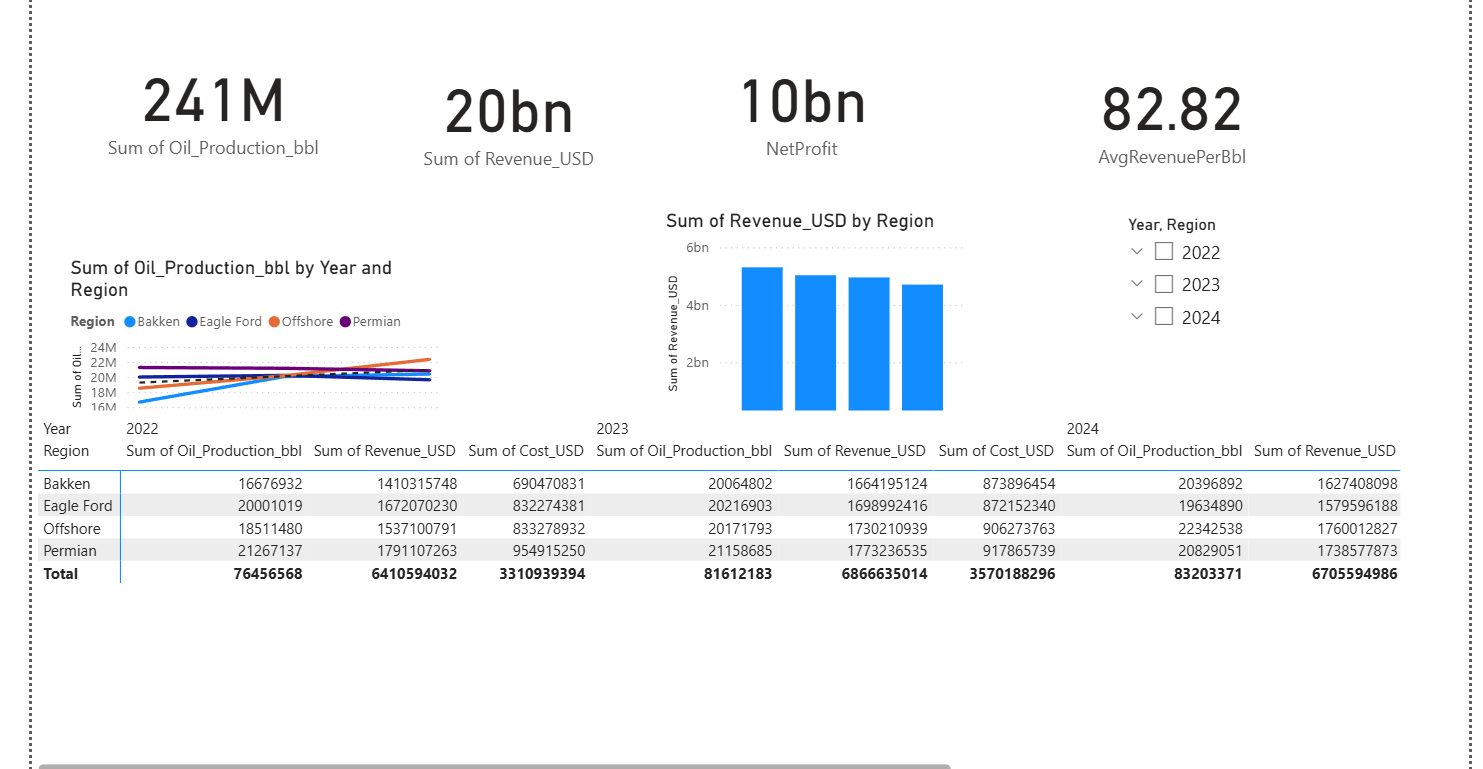

The page's visual inventory and layout, read from the dashboard file:
{"tool":"powerbi","page":{"name":"Page 1","canvas":[1280,720],"ordinal":0},"visuals":[{"type":"card","fields":{"Values":["Sum(OilProduction.Oil_Production_bbl)"]},"box":[20.8,0,279.7,215.4],"z":4},{"type":"card","fields":{"Values":["Sum(OilProduction.Revenue_USD)"]},"box":[300.5,18.9,247.6,196.5],"z":5},{"type":"card","fields":{"Values":["OilProduction.NetProfit"]},"box":[532.9,15.1,304.3,187.1],"z":6},{"type":"card","fields":{"Values":["OilProduction.AvgRevenuePerBbl"]},"box":[863.6,34,304.3,164.4],"z":7},{"type":"lineChart","fields":{"Category":["OilProduction.Date.Variation.Date Hierarchy.Year","OilProduction.Date.Variation.Date Hierarchy.Quarter","OilProduction.Date.Variation.Date Hierarchy.Month","OilProduction.Date.Variation.Date Hierarchy.Day"],"Y":["Sum(OilProduction.Oil_Production_bbl)"],"Series":["OilProduction.Region"]},"box":[39.7,177.6,519.7,308],"z":8},{"type":"clusteredColumnChart","fields":{"Y":["Sum(OilProduction.Revenue_USD)"],"Category":["OilProduction.Region"]},"box":[560,202,277,263],"z":9},{"type":"pivotTable","fields":{"Rows":["OilProduction.Region"],"Columns":["OilProduction.Year","OilProduction.Quarter"],"Values":["Sum(OilProduction.Oil_Production_bbl)","Sum(OilProduction.Revenue_USD)","Sum(OilProduction.Cost_USD)"]},"box":[20.1,391.2,1223.8,329],"z":10},{"type":"slicer","fields":{"Values":["OilProduction.Year","OilProduction.Region"]},"box":[864,202,304,189],"z":11}]}

Visuals, with their boxes on the page's 1280x720 design canvas (x1, y1, x2, y2). These are canvas units, not pixel positions in the 1483x769 screenshot, which may show the page scaled, cropped or inside an application window:
card - Sum(OilProduction.Oil_Production_bbl): detection(21, 0, 300, 215)
card - Sum(OilProduction.Revenue_USD): detection(300, 19, 548, 215)
card - OilProduction.NetProfit: detection(533, 15, 837, 202)
card - OilProduction.AvgRevenuePerBbl: detection(864, 34, 1168, 198)
lineChart - OilProduction.Date.Variation.Date Hierarchy.Year x OilProduction.Date.Variation.Date Hierarchy.Quarter: detection(40, 178, 559, 486)
clusteredColumnChart - Sum(OilProduction.Revenue_USD) x OilProduction.Region: detection(560, 202, 837, 465)
pivotTable - OilProduction.Region x OilProduction.Year: detection(20, 391, 1244, 720)
slicer - OilProduction.Year x OilProduction.Region: detection(864, 202, 1168, 391)
